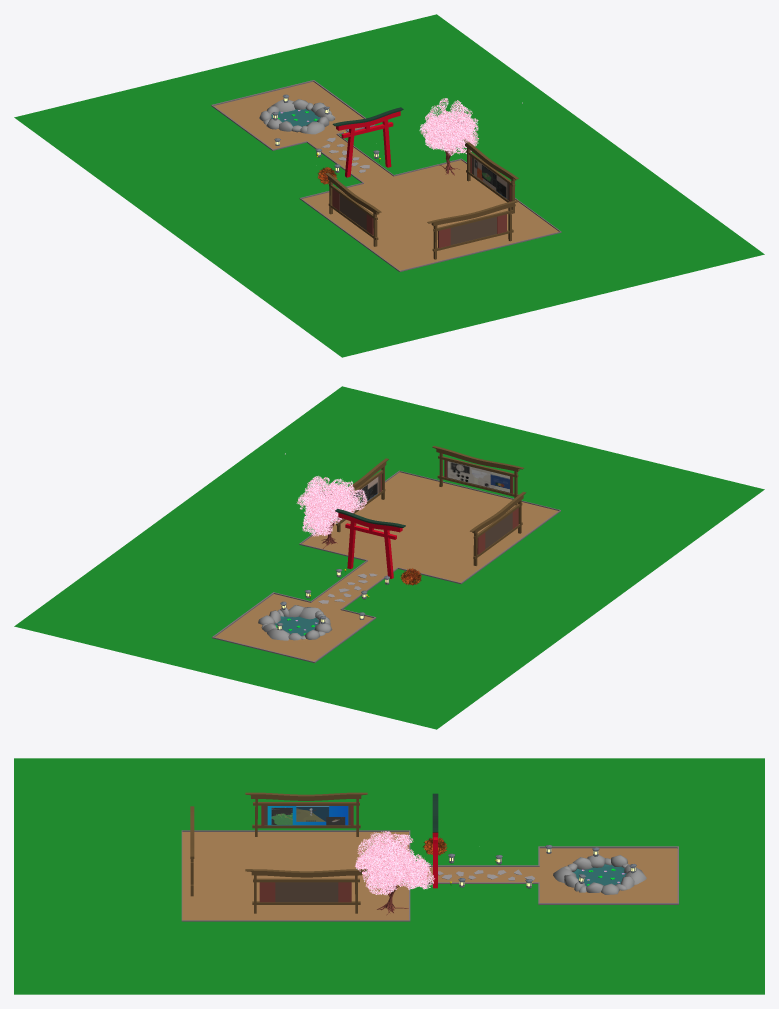
The model's file is portfolio5final.glb.
3 views of the same model, one above another, from view 1: azimuth 30°, elevation 25°; view 2: azimuth 150°, elevation 25°; view 3: azimuth 270°, elevation 25° (orthographic). The views are drawn at different scales.
Parts seen in each view (by area): view 1: ground, mainSign, pinkTree1, roadOutline, rightSign, gate, rightSign.001, portSign; view 2: ground, pinkTree1, roadOutline, rightSign, mainSign, gate, belongingImg, rightSign.001; view 3: ground, pinkTree1, rightSign.001, roadOutline, rightSign, fishingImg, gate, mainSign.
Part boxes in pixels (bbox=[...]): ground: bbox=[14, 14, 764, 357]; mainSign: bbox=[427, 200, 518, 259]; pinkTree1: bbox=[419, 98, 478, 175]; roadOutline: bbox=[211, 80, 561, 271]; rightSign: bbox=[325, 173, 381, 246]; gate: bbox=[332, 107, 403, 177]; rightSign.001: bbox=[462, 139, 518, 213]; portSign: bbox=[474, 158, 507, 198]; ground: bbox=[14, 386, 764, 729]; pinkTree1: bbox=[296, 475, 367, 548]; roadOutline: bbox=[212, 470, 560, 663]; rightSign: bbox=[470, 491, 526, 565]; mainSign: bbox=[432, 446, 523, 505]; gate: bbox=[335, 508, 405, 578]; belongingImg: bbox=[447, 461, 509, 492]; rightSign.001: bbox=[336, 458, 388, 532]; ground: bbox=[14, 758, 764, 994]; pinkTree1: bbox=[355, 831, 434, 915]; rightSign.001: bbox=[245, 869, 367, 913]; roadOutline: bbox=[181, 830, 678, 921]; rightSign: bbox=[245, 792, 367, 836]; fishingImg: bbox=[267, 806, 348, 825]; gate: bbox=[432, 793, 438, 888]; mainSign: bbox=[190, 806, 194, 896].
Size of the model in its own units: 95.62 by 17.96 by 129.
27 materials, 6 textured.
